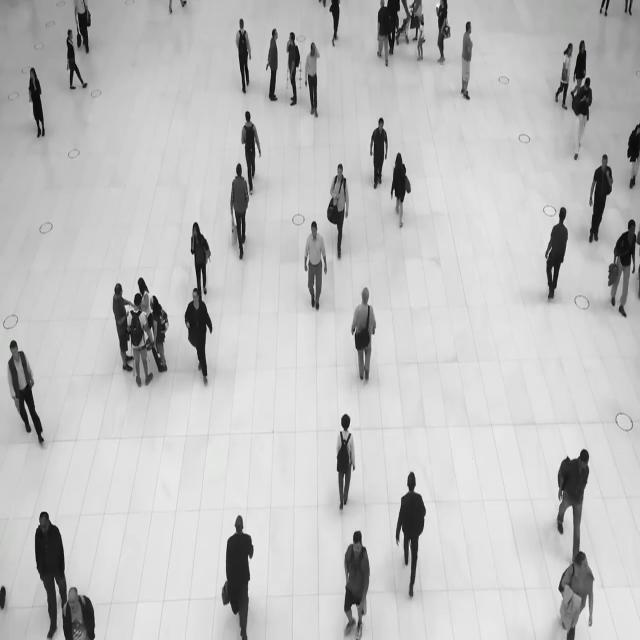Persona: (545, 415, 604, 541), (216, 495, 264, 640), (2, 329, 52, 464), (388, 460, 433, 600), (550, 545, 603, 640), (335, 523, 378, 640), (30, 493, 64, 640), (328, 394, 361, 523), (348, 277, 381, 402), (182, 282, 219, 393), (543, 193, 574, 311), (606, 210, 637, 326), (222, 160, 255, 266), (327, 154, 357, 263), (300, 212, 330, 319), (588, 143, 614, 257), (109, 268, 133, 381), (57, 17, 89, 101), (364, 100, 391, 199), (148, 289, 174, 383), (185, 212, 215, 292), (24, 58, 50, 150), (62, 578, 100, 640), (388, 141, 412, 232), (240, 107, 264, 193), (555, 24, 576, 122), (130, 298, 152, 389), (459, 11, 478, 115), (232, 11, 256, 93), (302, 33, 324, 121), (263, 15, 282, 116), (283, 18, 303, 112)
